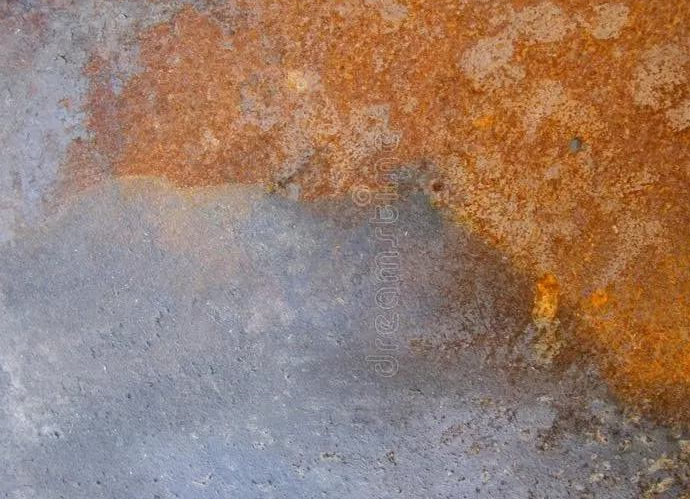Corrosion: (64, 1, 690, 430)
